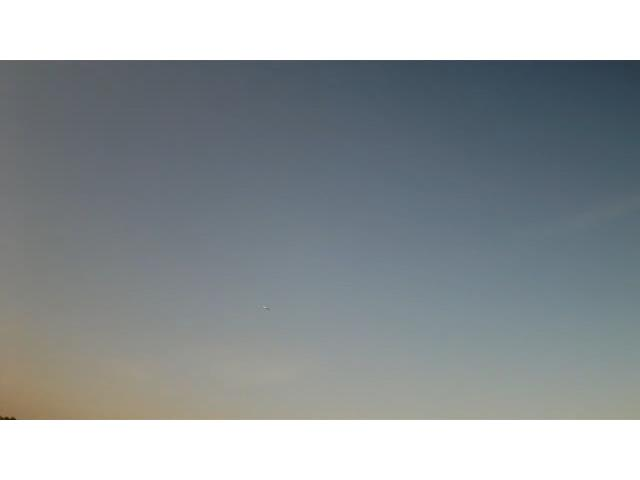Anti-Drone: (250, 299, 280, 317)
